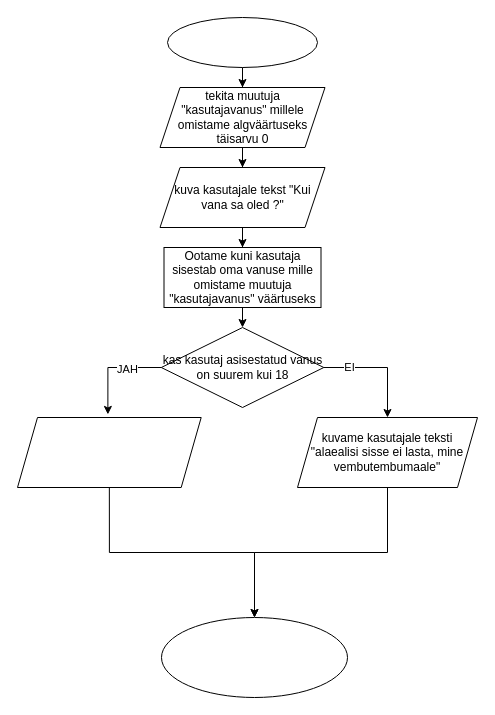
This 495x715 diagram has some shape labels left out. The centre of each missing label's shape, as x and y in pixels:
Kuvame kasutajale teksti "Tere siin on sinu Mojito🍸": point (108, 452)
programmi algus: point (242, 42)
Programmi lõpp: point (254, 657)
